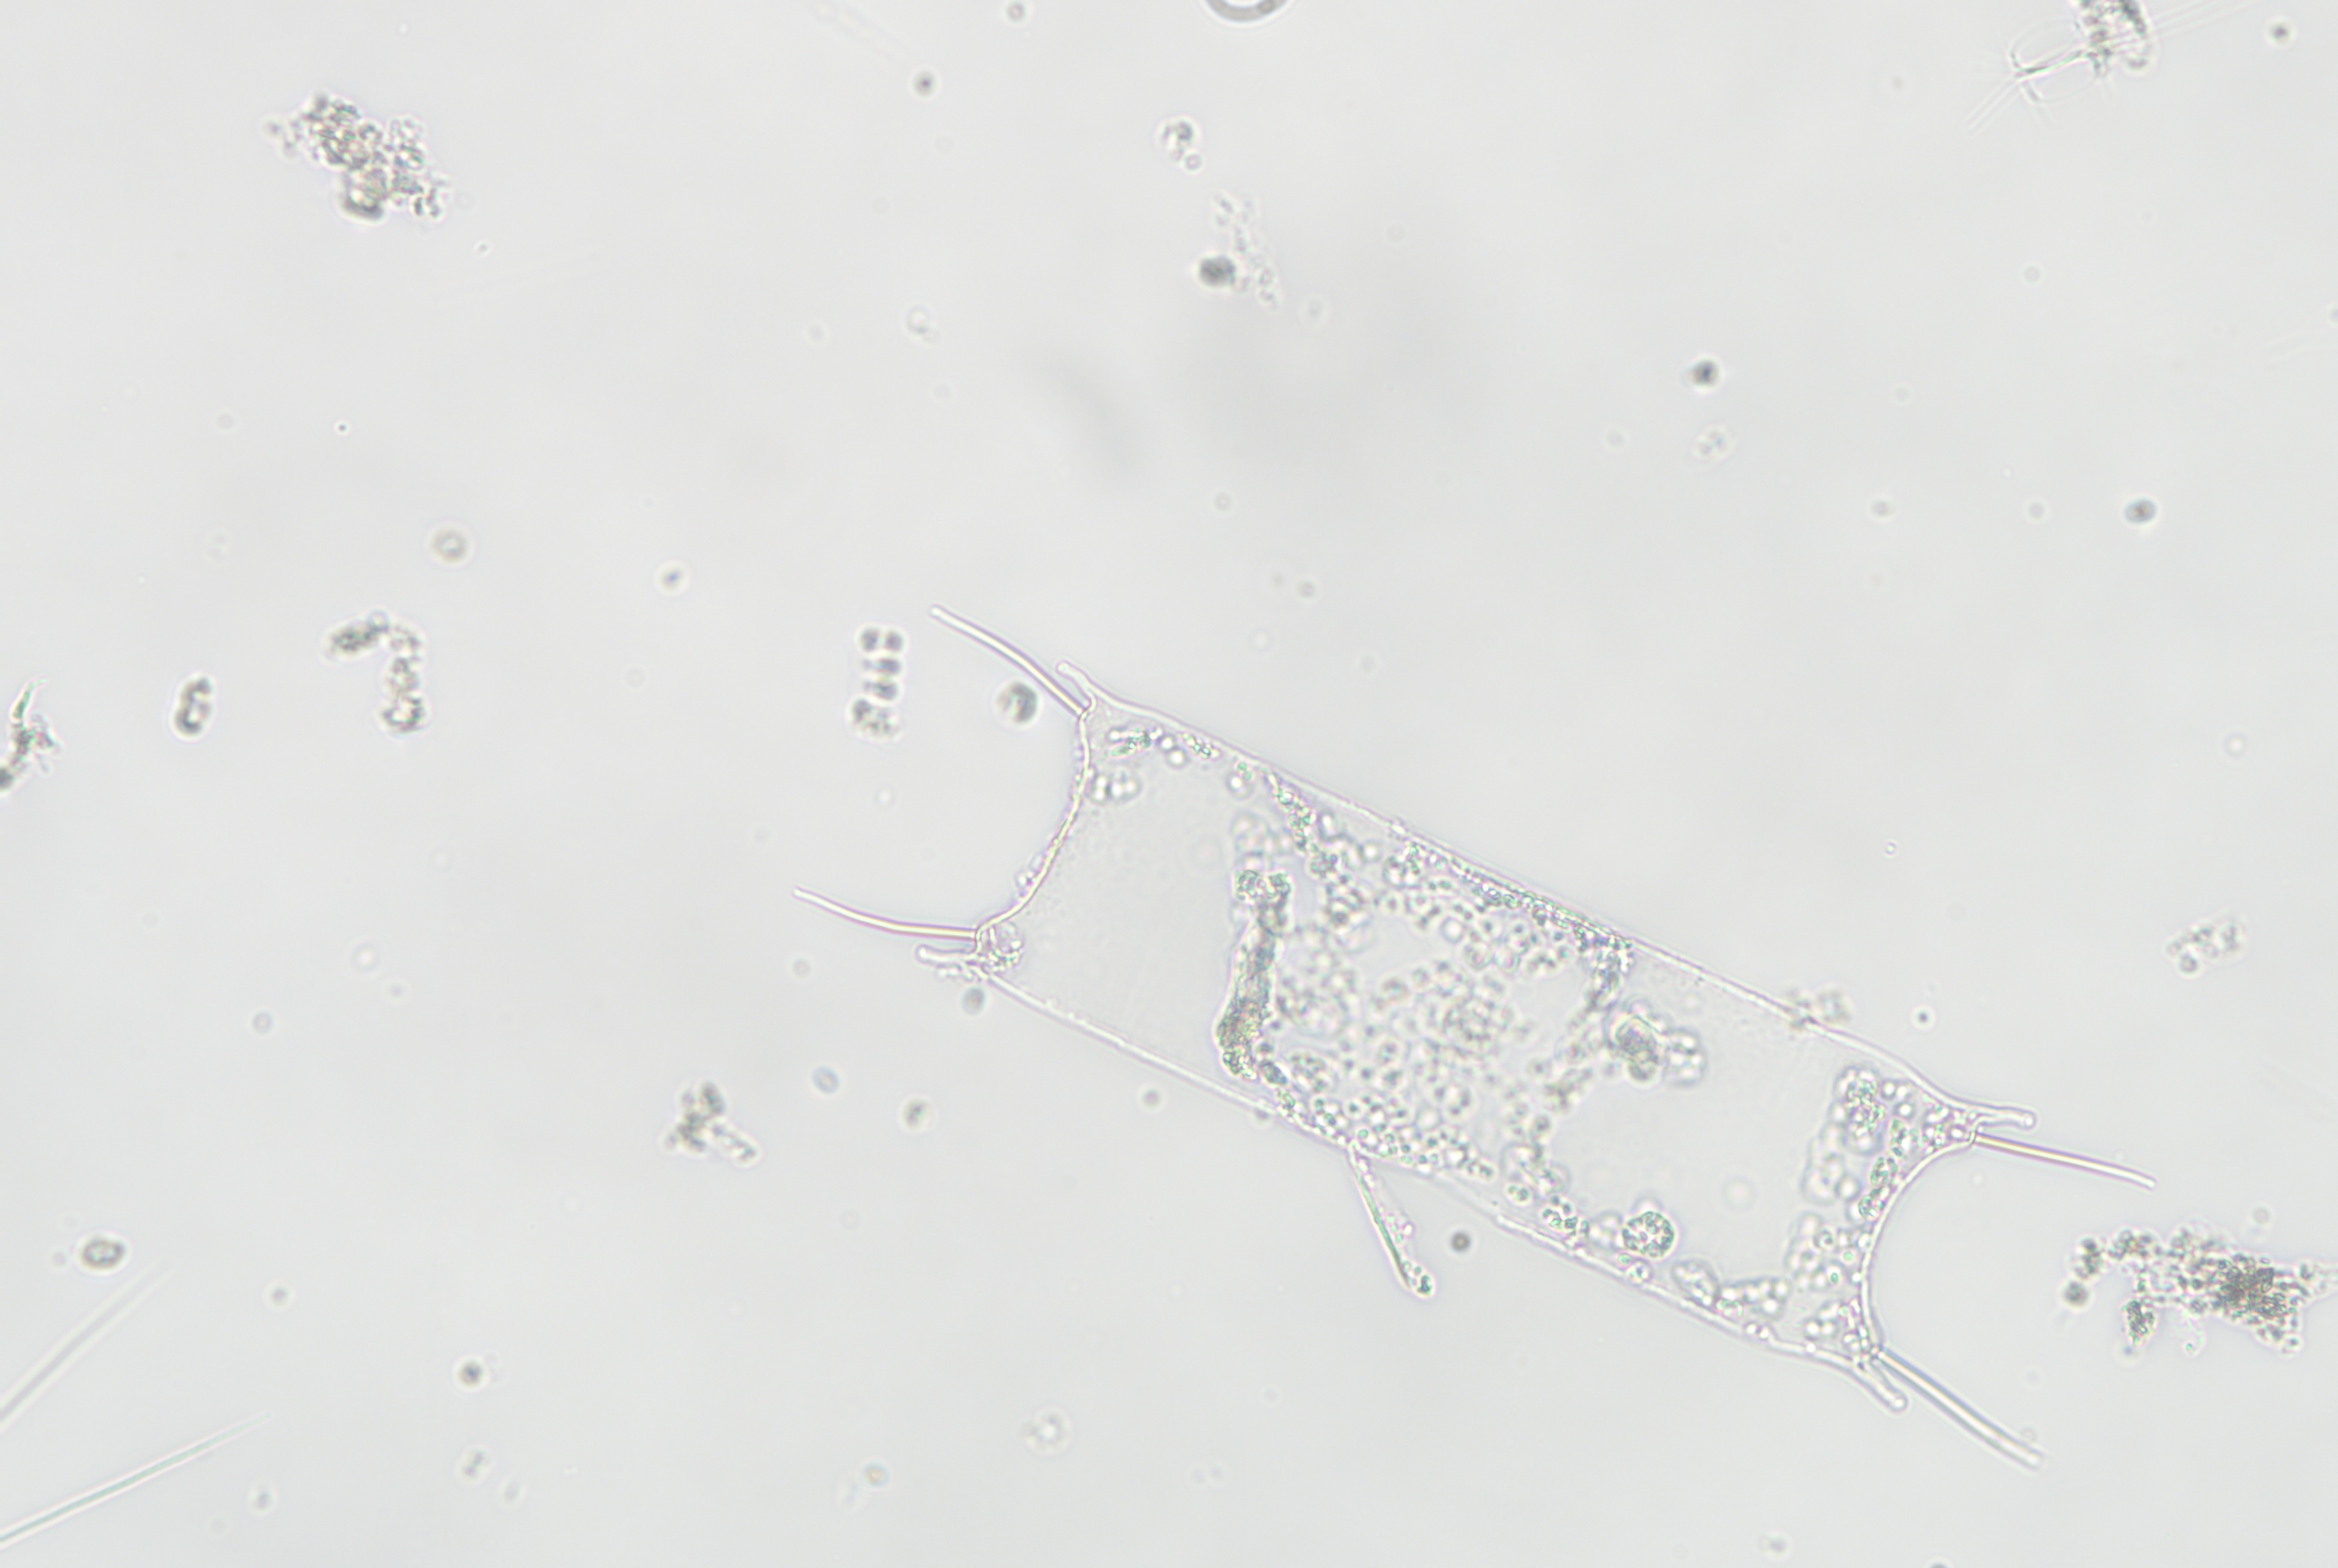biddulphia: (782, 565, 2147, 1517)
